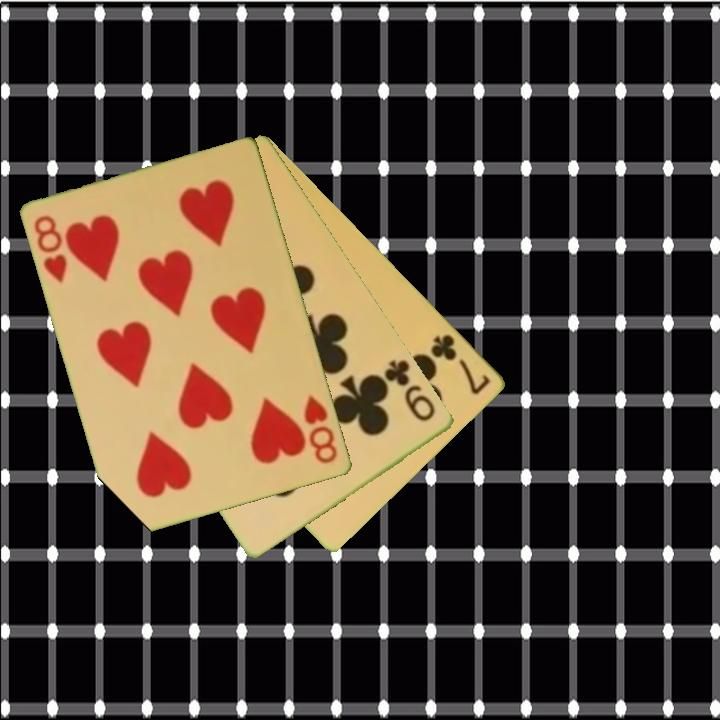7c: (427, 331, 494, 398)
8h: (301, 391, 341, 467), (31, 212, 71, 287)
9c: (381, 356, 439, 425)
